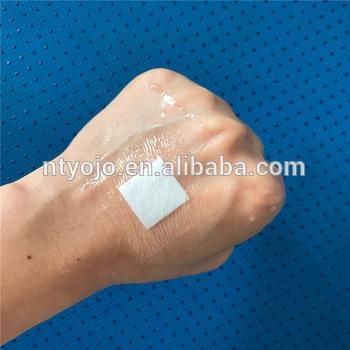bandage: (87, 135, 206, 258)
